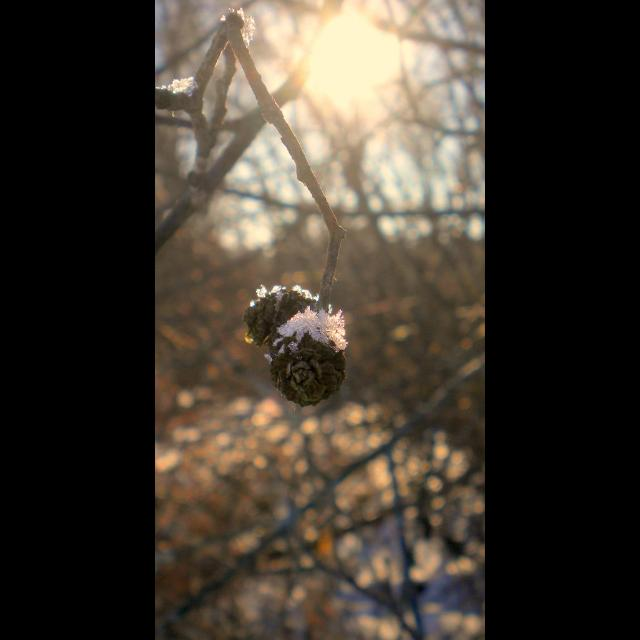Flower: (266, 313, 350, 405), (241, 283, 323, 351)
